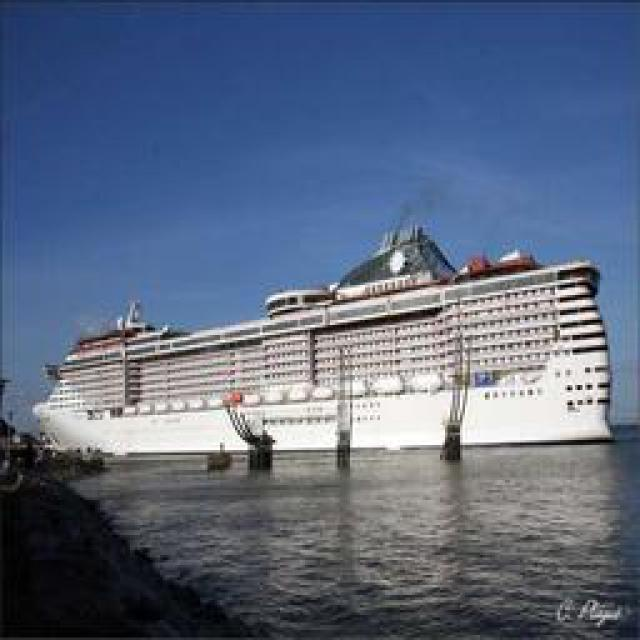Ship: (39, 231, 609, 459)
